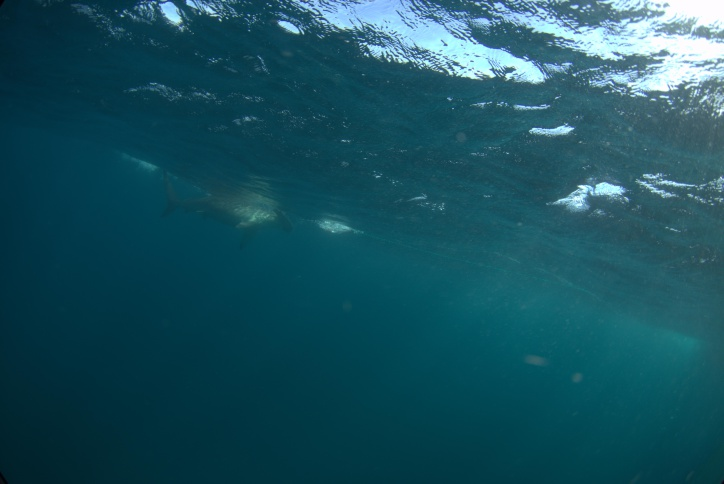Hammer: (141, 160, 305, 259)
